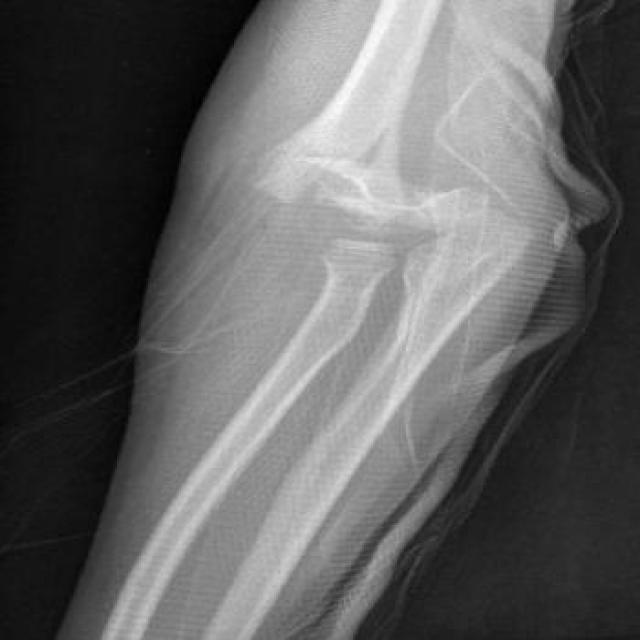Fracture: (230, 181, 388, 269)
